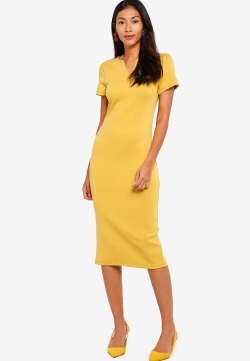C_dress: (83, 57, 169, 264)
